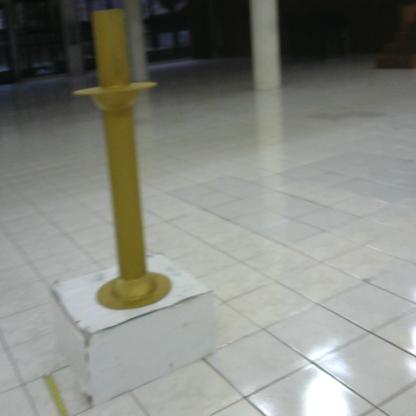pole: (69, 3, 181, 320)
